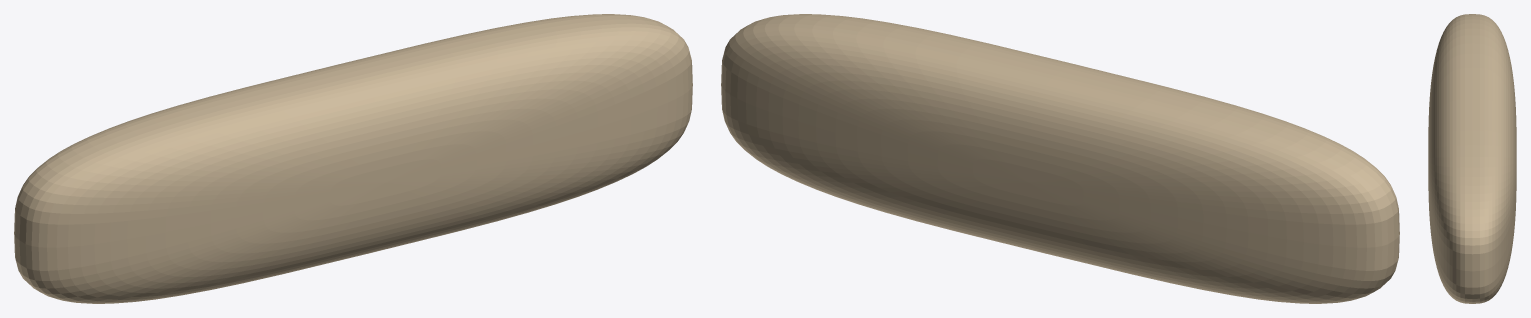
The model's file is pancreas.glb.
3 renders of one model, left to right at view 1: azimuth 30°, elevation 25°; view 2: azimuth 150°, elevation 25°; view 3: azimuth 270°, elevation 25°, orthographic. The views are drawn at different scales.
Visible parts, largest first — view 1: pancreas; view 2: pancreas; view 3: pancreas.
Boxes of the visible parts, left/top/right/bottom form: pancreas: left=14, top=14, right=692, bottom=303; pancreas: left=721, top=14, right=1399, bottom=303; pancreas: left=1428, top=14, right=1516, bottom=303.
Size of the model in its own units: 0.144 by 0.036 by 0.024.
